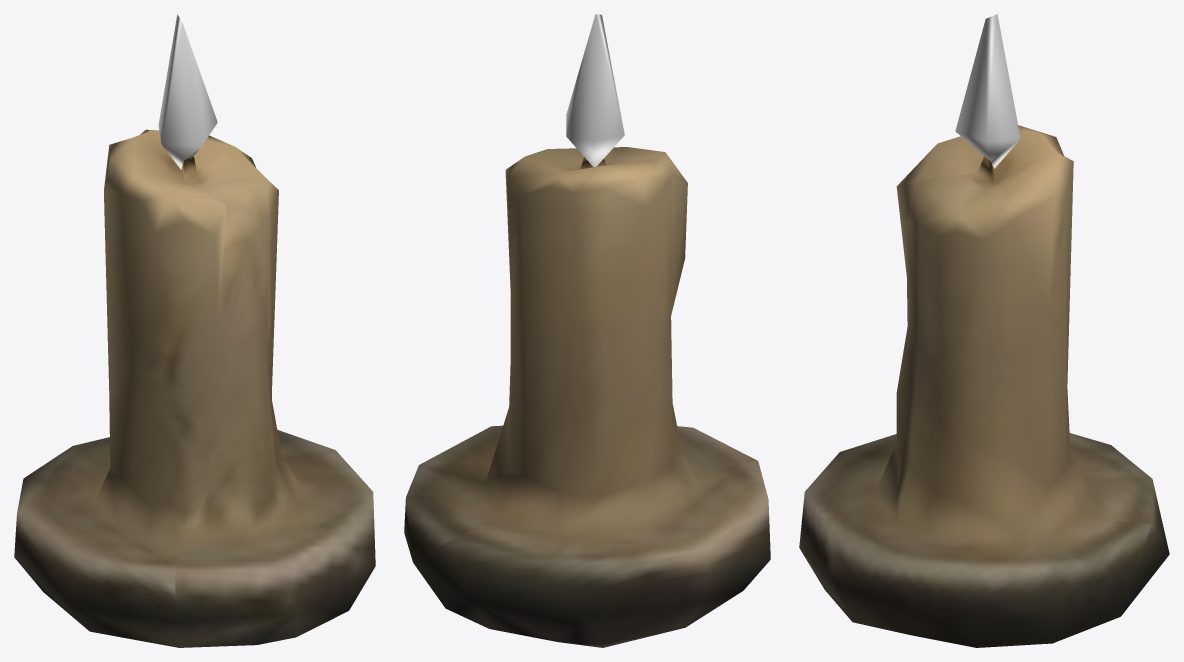
The model's file is Candle_Single_01.fbx.
The picture shows the model from 3 angles, left to right: view 1: azimuth 30°, elevation 25°; view 2: azimuth 150°, elevation 25°; view 3: azimuth 270°, elevation 25°; orthographic projection.
Parts seen in each view (by area): view 1: Shrine.001; view 2: Shrine.001; view 3: Shrine.001.
Boxes of the visible parts, left/top/right/bottom form: Shrine.001: left=14, top=14, right=375, bottom=647; Shrine.001: left=404, top=14, right=770, bottom=647; Shrine.001: left=799, top=14, right=1169, bottom=647.
Size of the model in its own units: 18.26 by 31.17 by 18.66.
2 materials, 1 textured.
